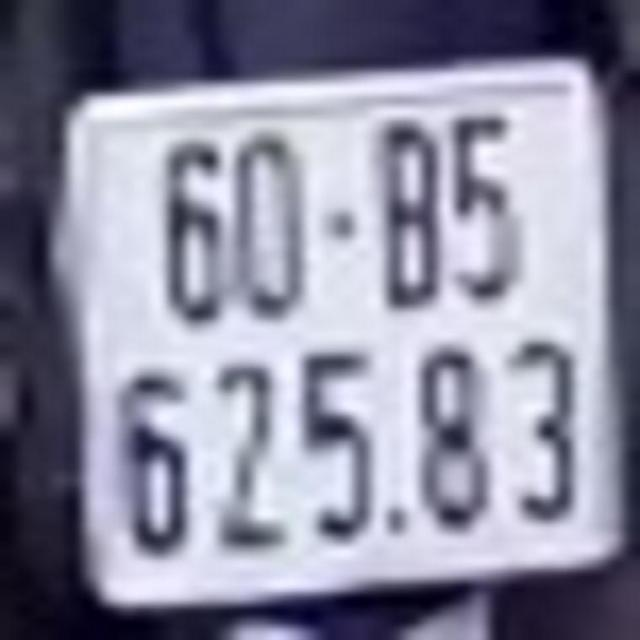0: (232, 134, 302, 318)
2: (212, 364, 291, 546)
3: (504, 338, 578, 522)
5: (302, 348, 379, 544), (450, 113, 520, 304)
6: (122, 370, 188, 553), (162, 140, 225, 324)
8: (416, 340, 494, 530)
B: (382, 114, 440, 309)
